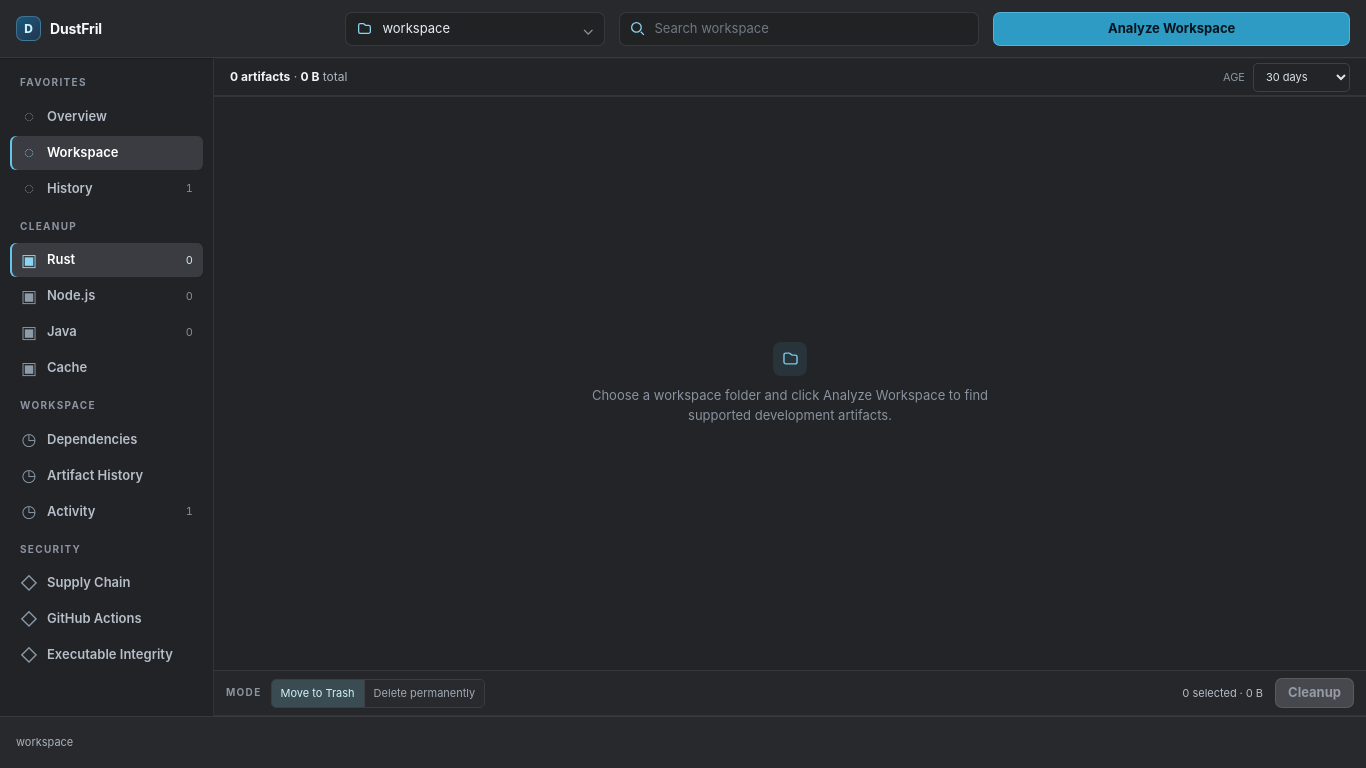
Test case: AppShell Overview navigation › clears activity history only after confirmation and updates the sidebar count
Click the button "◌ History 1" at [106, 188], box [10, 172, 203, 206]
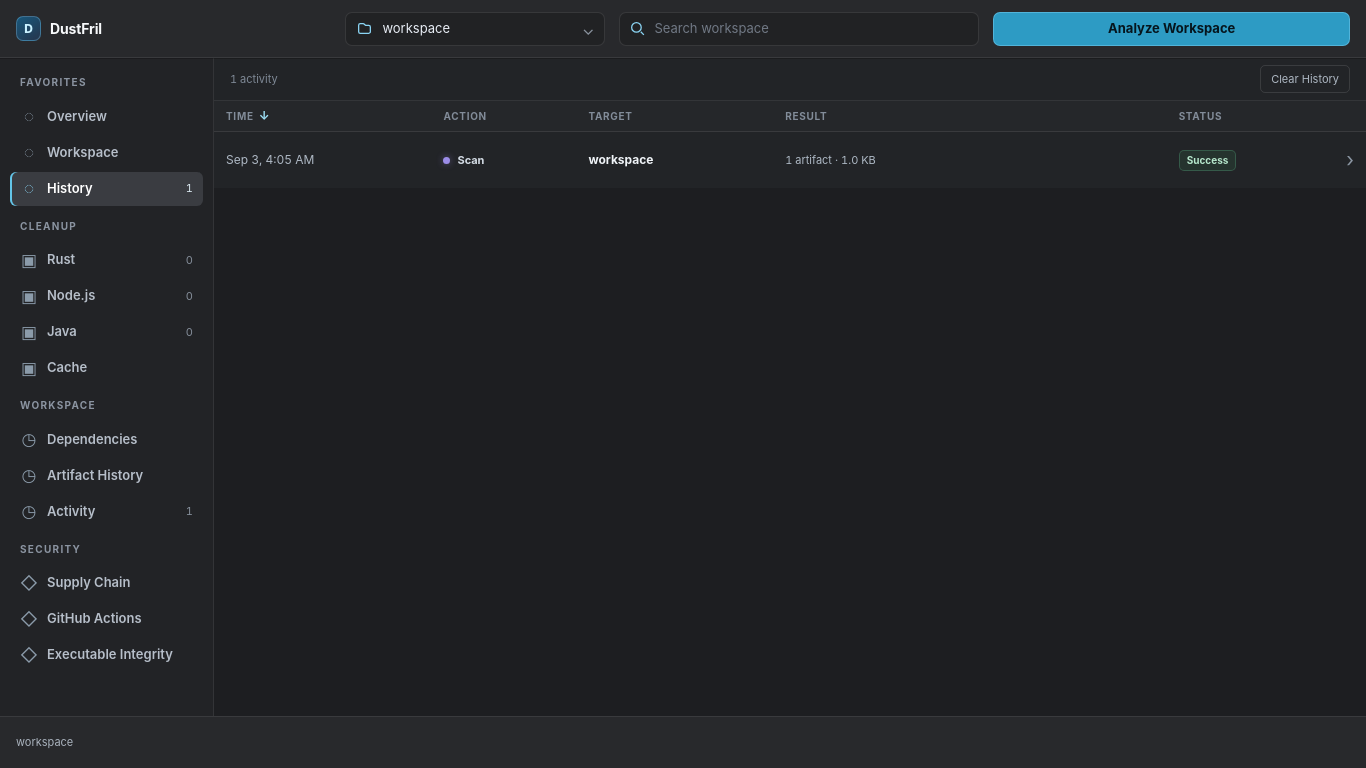
Click the button "Clear History" at [1305, 79], box [1260, 65, 1350, 93]
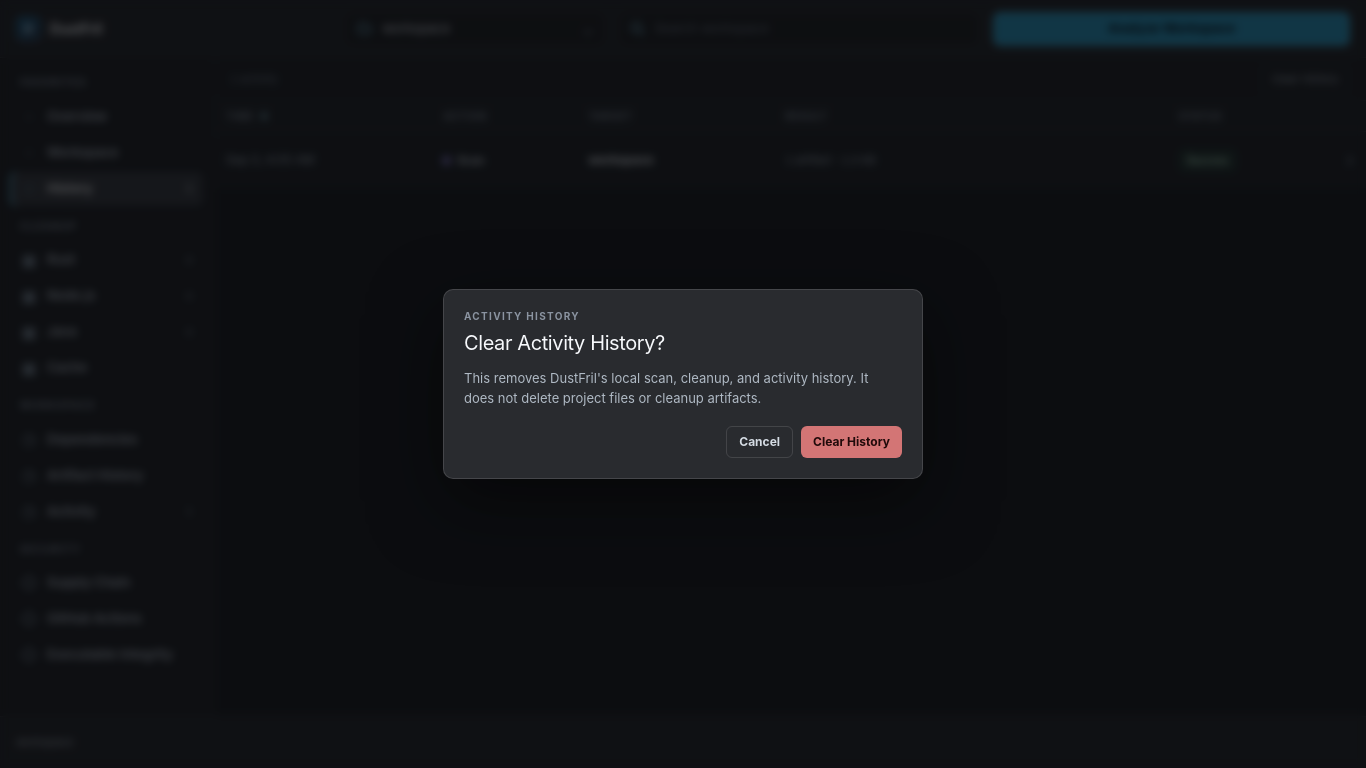
Click the button "Cancel" at [760, 442], box [726, 426, 793, 458]
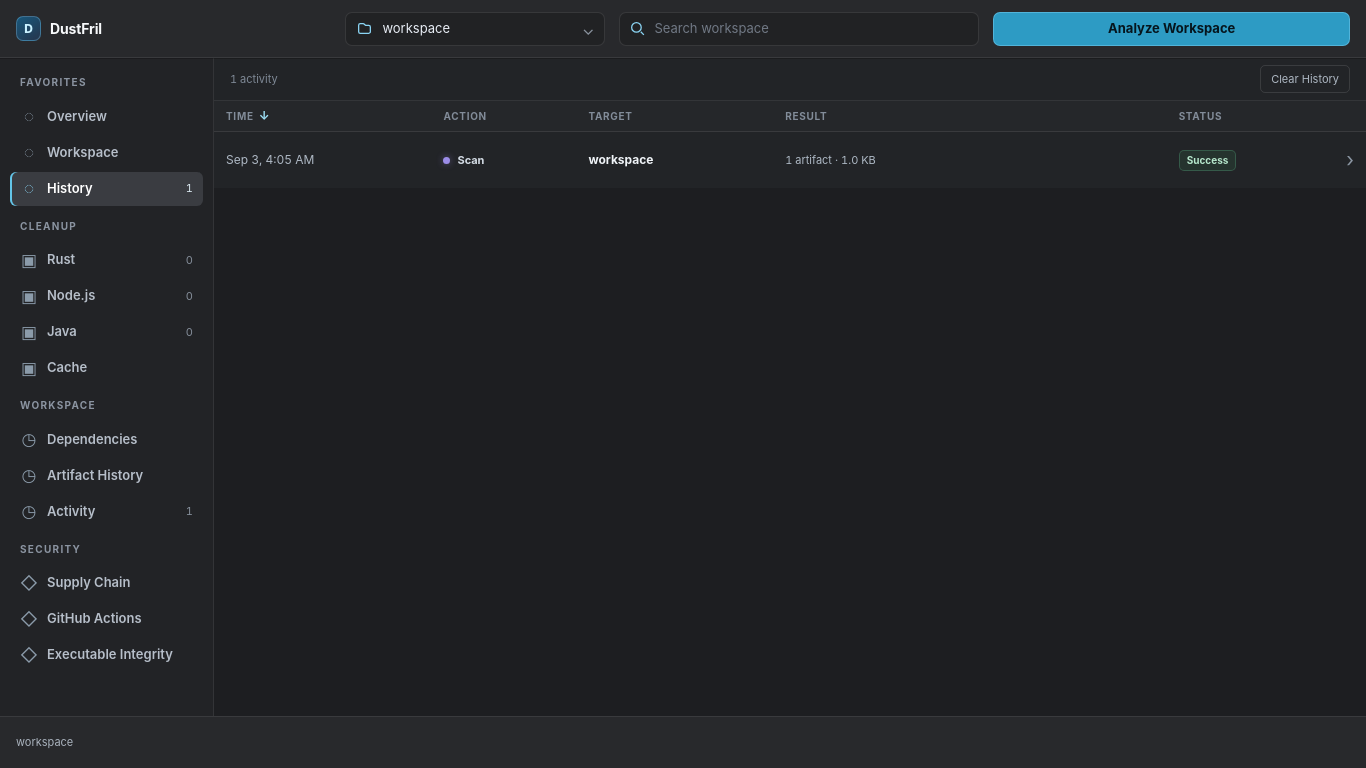
Expected: the row named "Inspect Scan activity" is shown, [214, 132, 1365, 188]
Click the button "Clear History" at [1305, 79], box [1260, 65, 1350, 93]
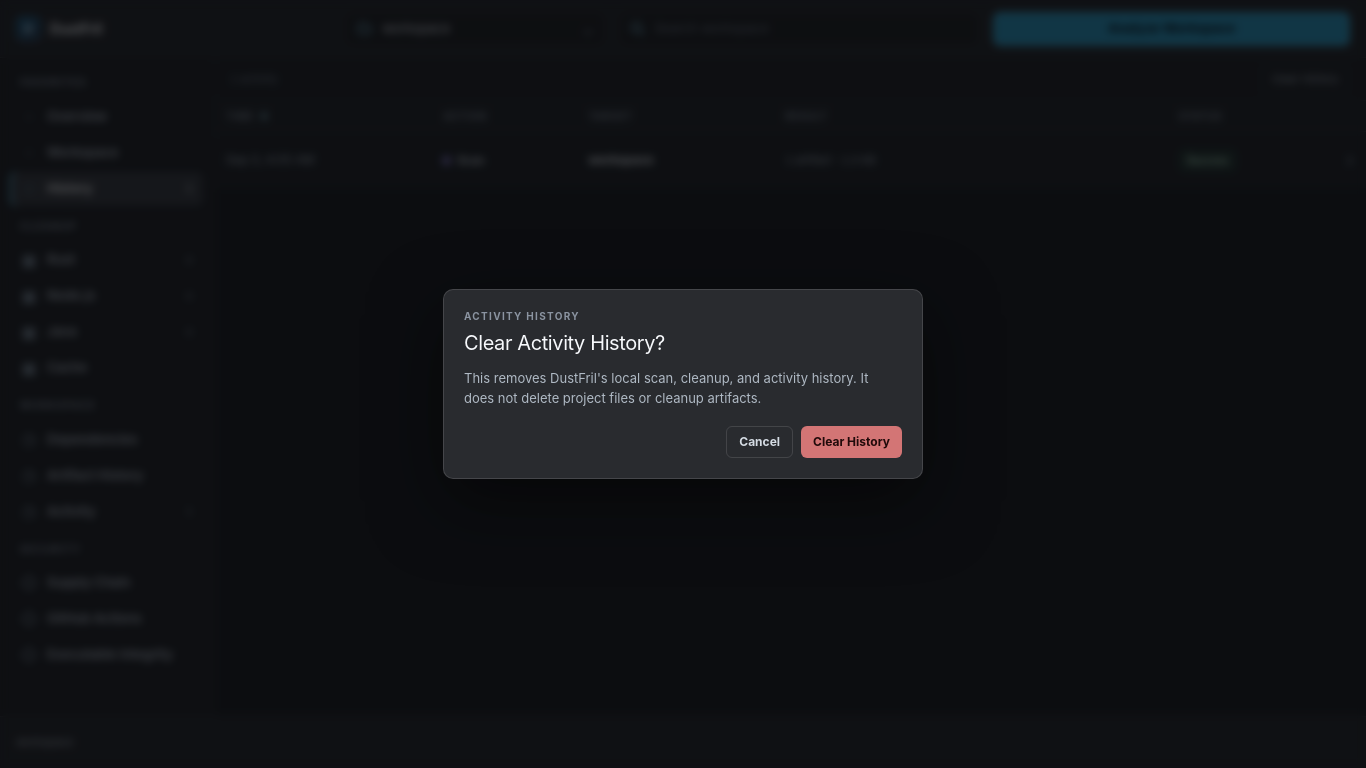
Click the button "Clear History" at [852, 442], box [801, 426, 902, 458]
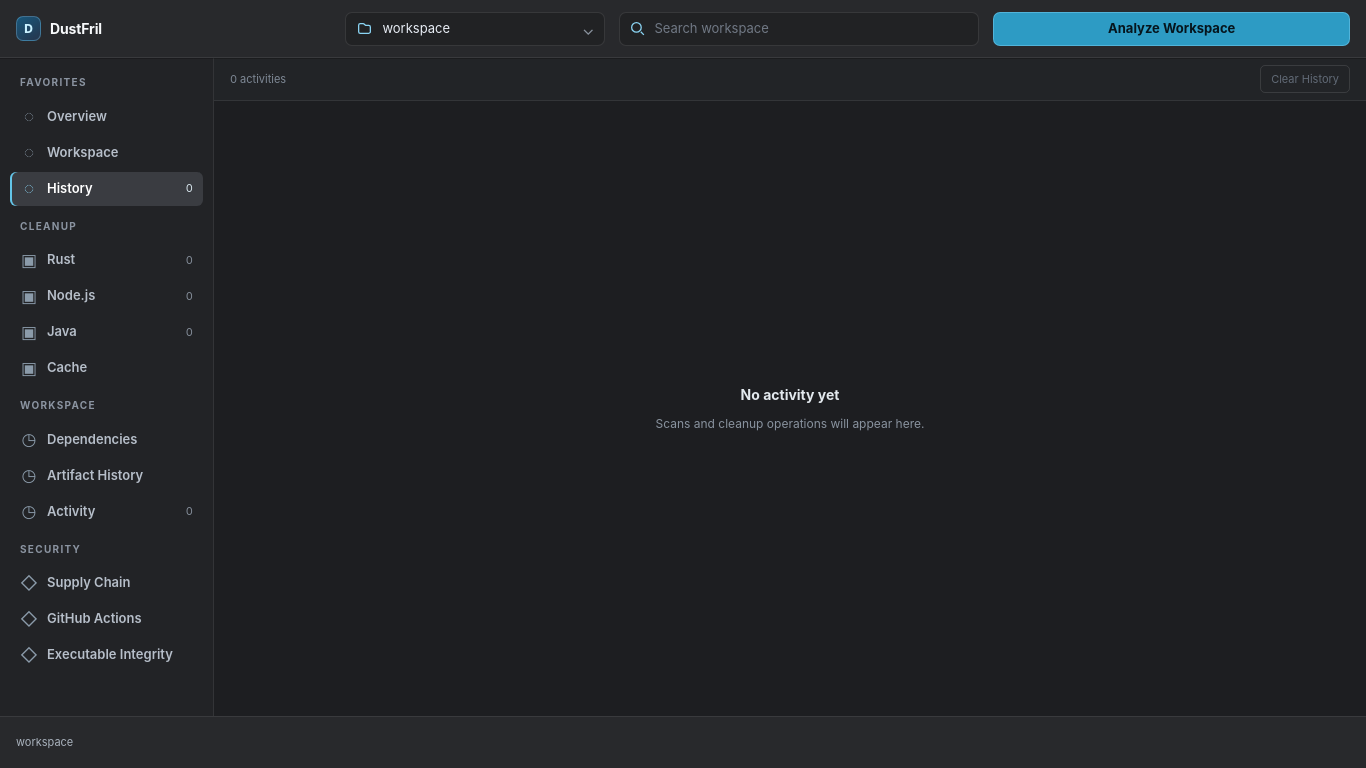
Expected: the button "◌ History 0" is shown, [10, 172, 203, 206]
Expected: the text "No activity yet" is shown, [741, 384, 840, 406]
